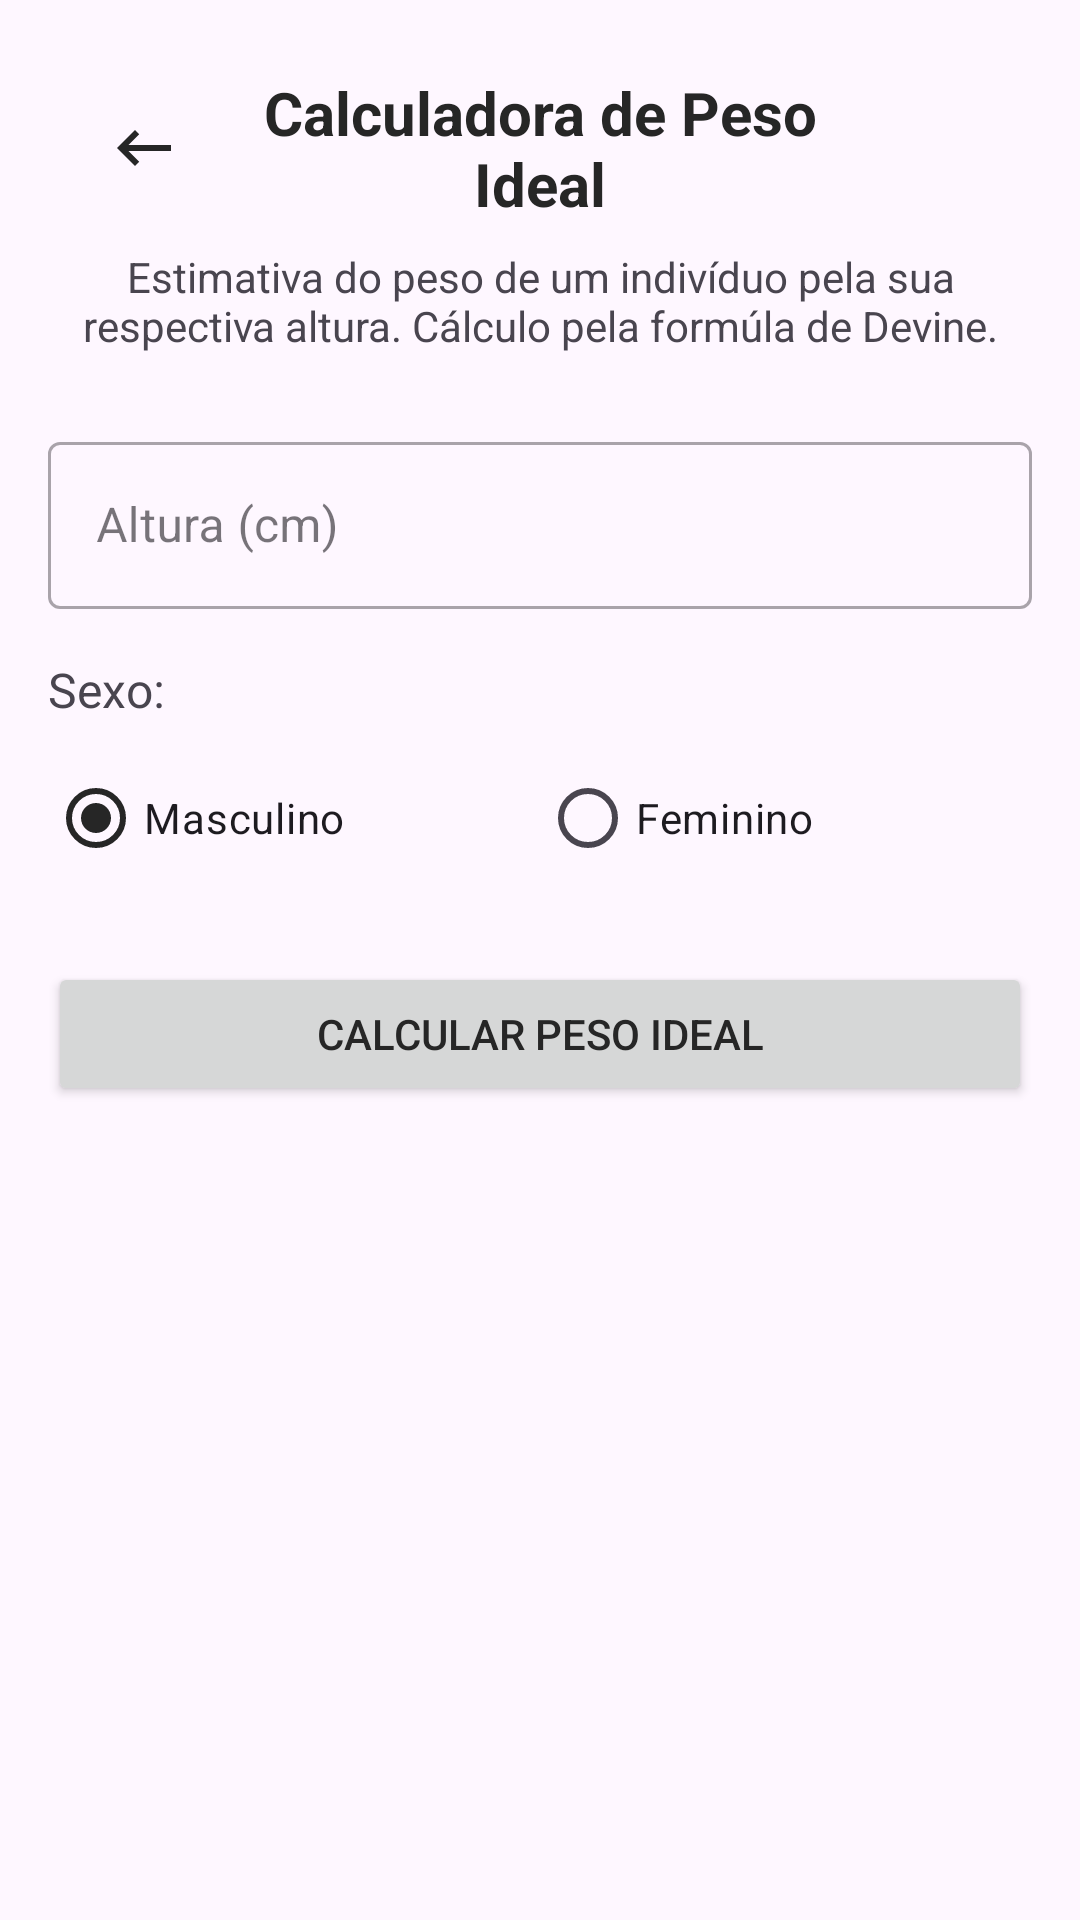

Locate icon controls on the screen. Image size 1080px x 1920px, boxes as detection(x1, y1, x2, y2).
Voltar: detection(117, 130, 171, 166)
